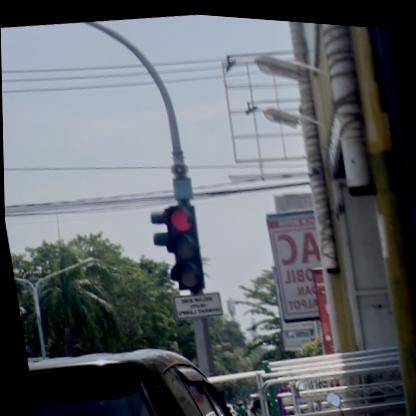red: (159, 200, 206, 289)
